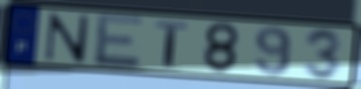3: (303, 28, 345, 81)
8: (202, 21, 241, 74)
9: (251, 25, 294, 77)
E: (93, 12, 146, 68)
N: (42, 12, 92, 65)
T: (153, 19, 189, 69)
